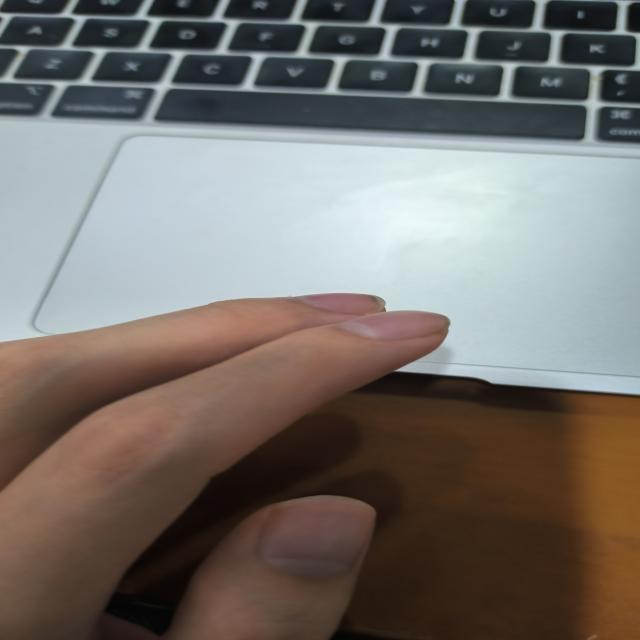Nail: (257, 496, 376, 575), (336, 310, 449, 340), (288, 292, 385, 314)
